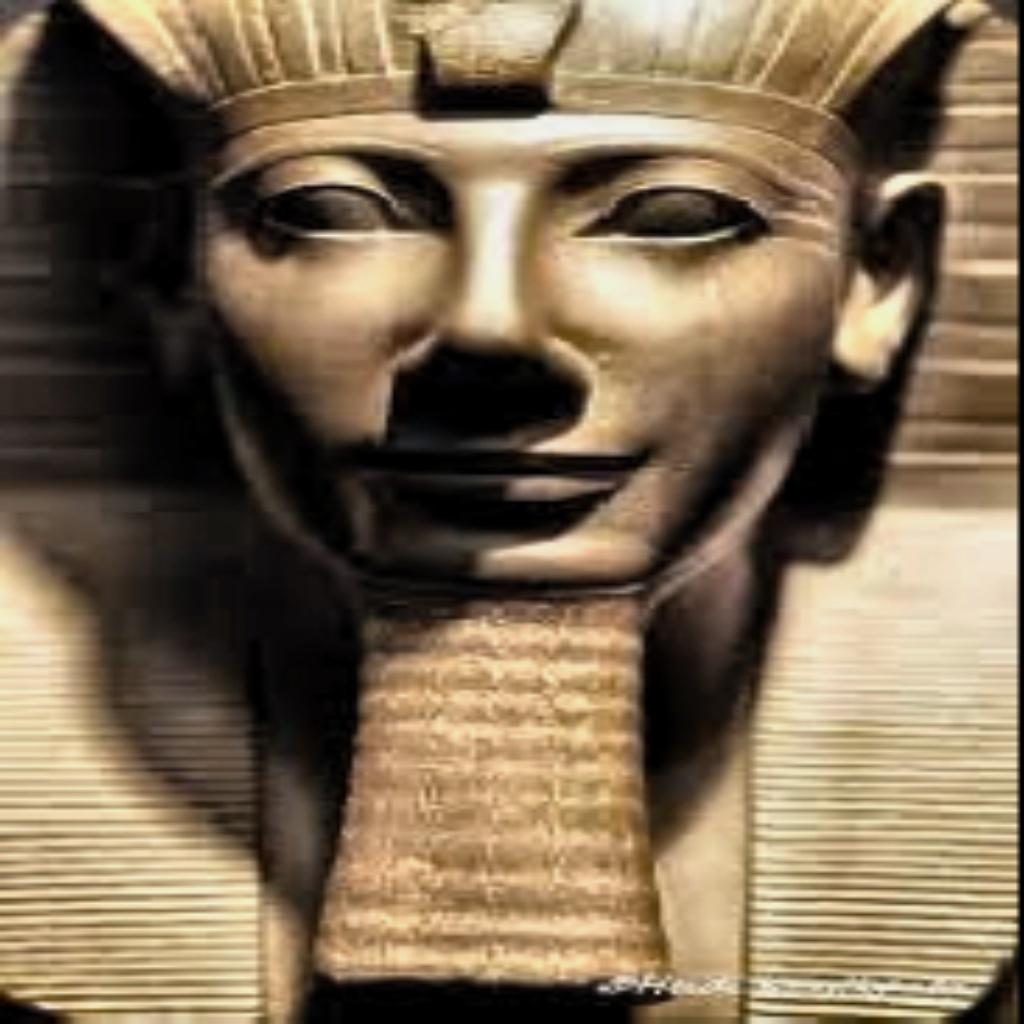King Thutmose III: (0, 0, 1013, 1020)
